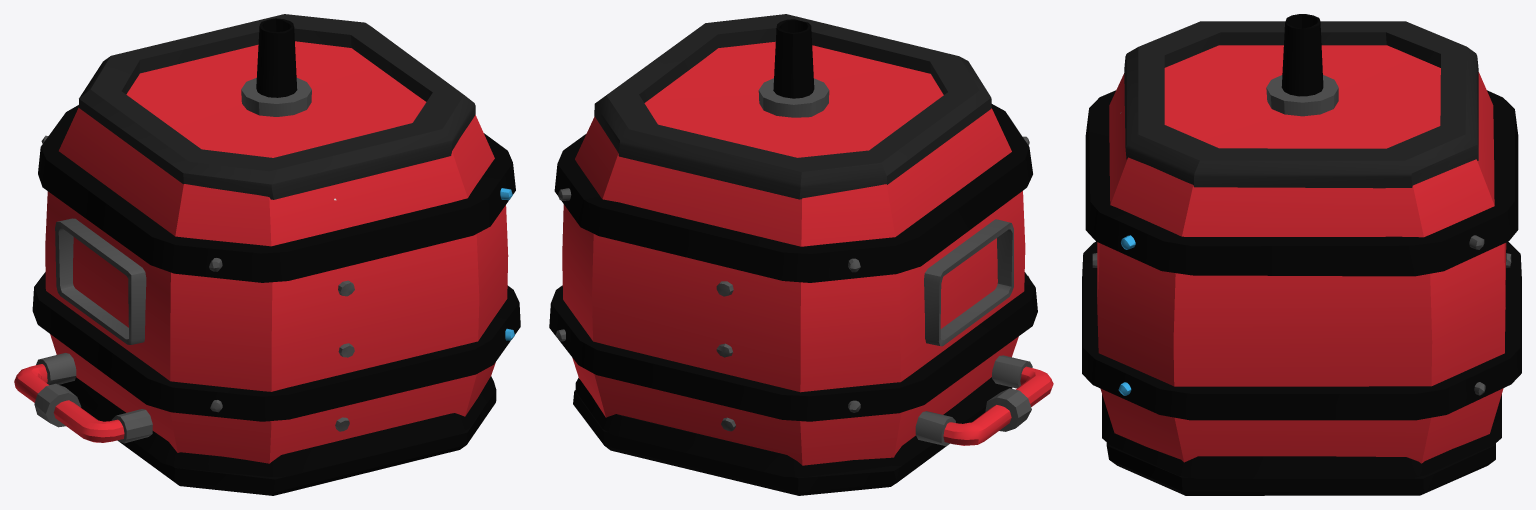
The model's file is heist2.fbx.
The picture shows the model from 3 angles, left to right: view 1: azimuth 30°, elevation 25°; view 2: azimuth 150°, elevation 25°; view 3: azimuth 270°, elevation 25°; orthographic projection. The views are drawn at different scales.
Parts seen in each view (by area): view 1: mesh_node.032, mesh_node.012, mesh_node.019, mesh_node.001, mesh_node.026, mesh_node.006, mesh_node.007, mesh_node.009, mesh_node.004, mesh_node.025, mesh_node.013, mesh_node.029 (+1 smaller); view 2: mesh_node.032, mesh_node.012, mesh_node.019, mesh_node.001, mesh_node.026, mesh_node.006, mesh_node.007, mesh_node.009, mesh_node.004, mesh_node.025, mesh_node.013, mesh_node.023 (+1 smaller); view 3: mesh_node.032, mesh_node.012, mesh_node.019, mesh_node.001, mesh_node.026, mesh_node.006, mesh_node.009, mesh_node.025.
Part boxes in pixels (x1,y1,x2,y2): mesh_node.032: (45, 41, 508, 463); mesh_node.012: (79, 14, 475, 199); mesh_node.019: (38, 105, 515, 282); mesh_node.001: (32, 272, 520, 421); mesh_node.026: (59, 376, 496, 476); mesh_node.006: (78, 391, 496, 495); mesh_node.007: (55, 218, 146, 344); mesh_node.009: (256, 18, 297, 97); mesh_node.004: (14, 364, 124, 442); mesh_node.025: (241, 78, 311, 116); mesh_node.013: (34, 383, 81, 427); mesh_node.029: (111, 409, 152, 443); mesh_node.032: (562, 41, 1025, 465); mesh_node.012: (594, 14, 991, 199); mesh_node.019: (554, 104, 1032, 282); mesh_node.001: (549, 272, 1037, 421); mesh_node.026: (575, 377, 1011, 477); mesh_node.006: (573, 387, 1012, 495); mesh_node.007: (924, 219, 1013, 346); mesh_node.009: (773, 19, 814, 98); mesh_node.004: (943, 366, 1053, 445); mesh_node.025: (758, 78, 829, 117); mesh_node.013: (985, 388, 1031, 431); mesh_node.023: (915, 411, 955, 446); mesh_node.032: (1097, 45, 1506, 463); mesh_node.012: (1124, 21, 1478, 188); mesh_node.019: (1085, 90, 1518, 276); mesh_node.001: (1082, 241, 1521, 420); mesh_node.026: (1102, 394, 1501, 478); mesh_node.006: (1106, 442, 1495, 495); mesh_node.009: (1281, 14, 1323, 96); mesh_node.025: (1266, 75, 1338, 116).
Bounding box in the file's own units: 83.79 × 73.44 × 73.24.
